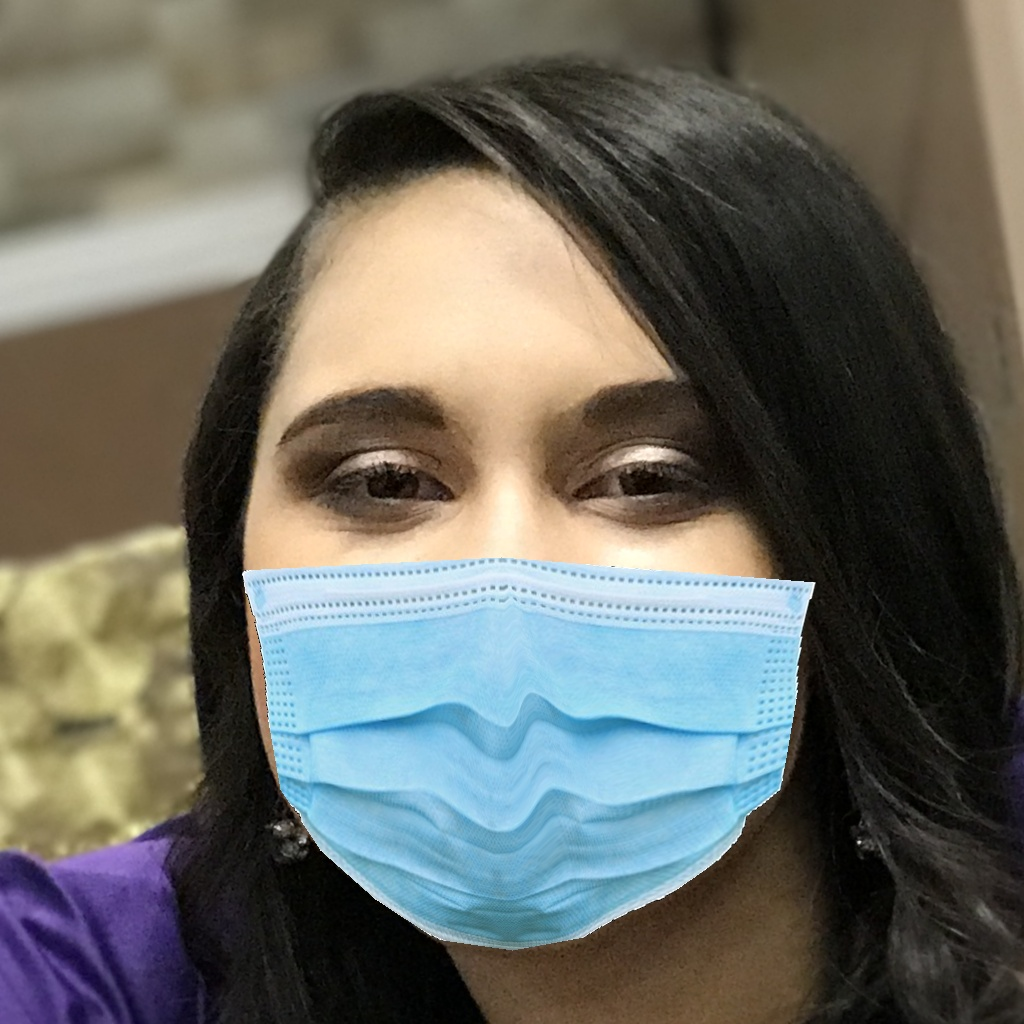Mask: (236, 360, 831, 946)
